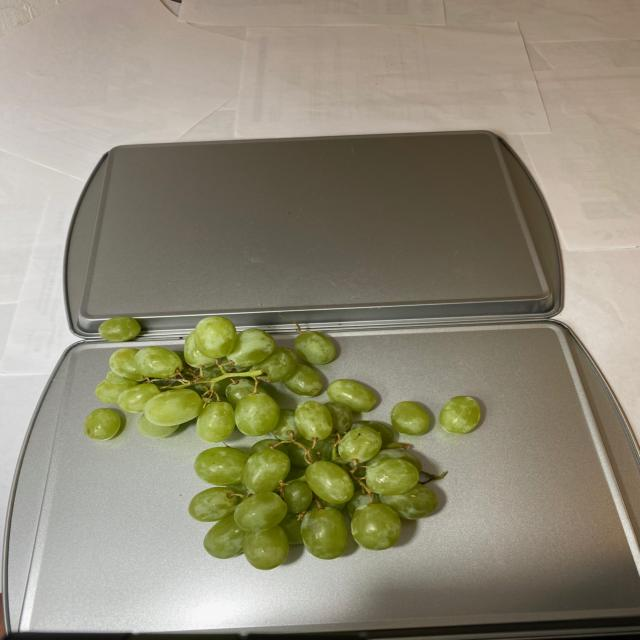grapes: (74, 320, 481, 561)
